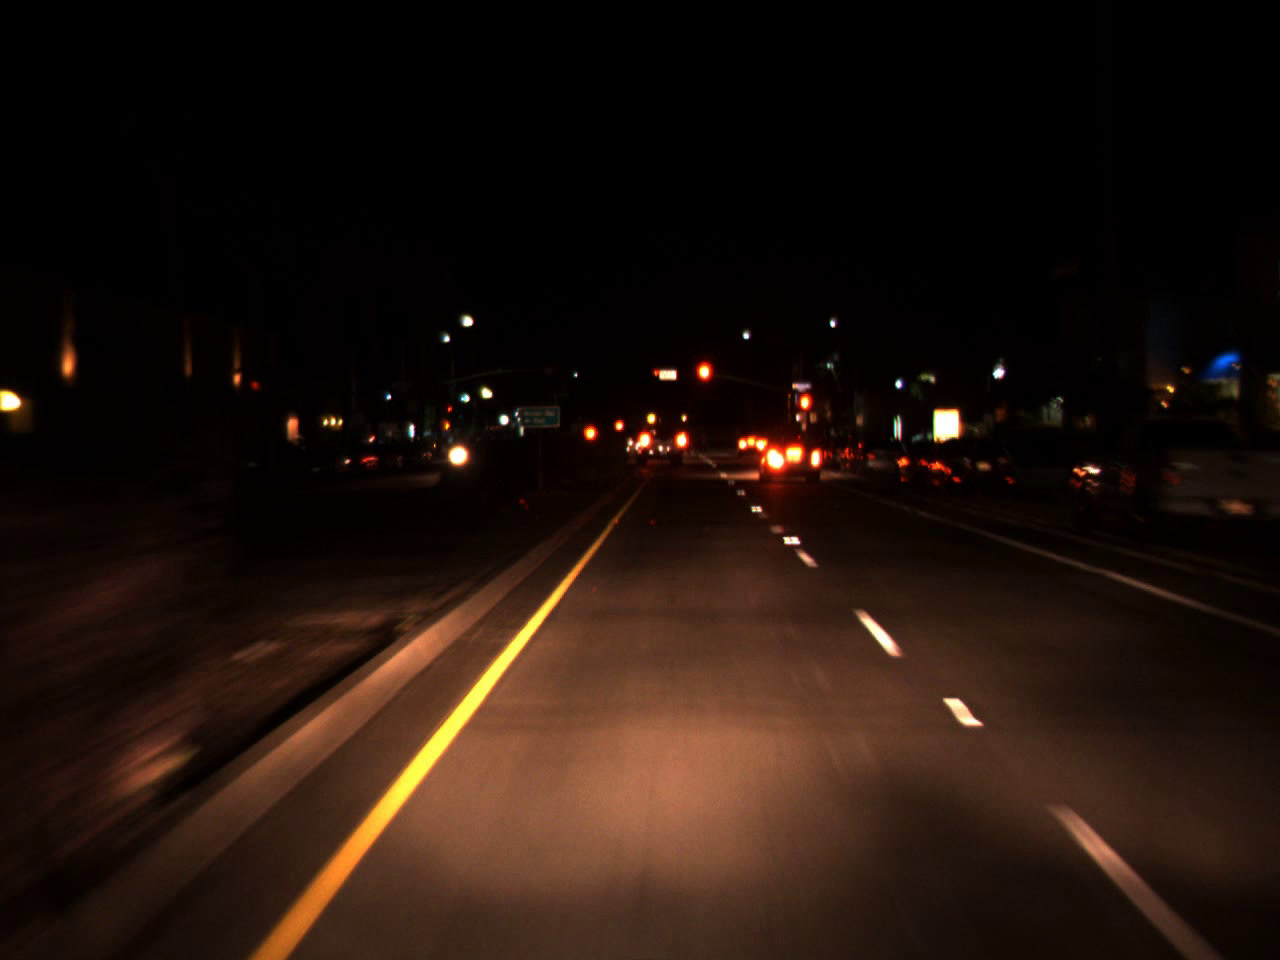stop: (693, 358, 714, 403), (797, 390, 815, 433), (653, 368, 660, 384), (445, 403, 452, 419)
